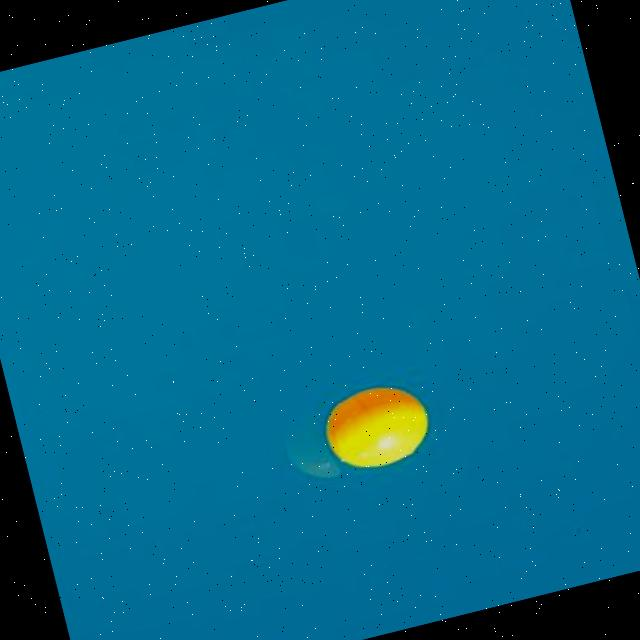ping-pong-ball: (318, 376, 437, 476)
